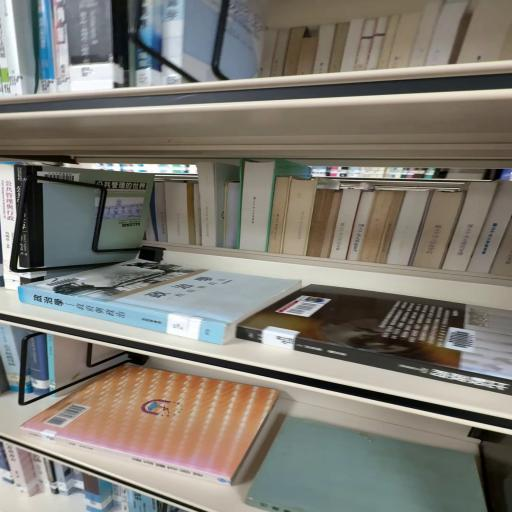flat: (22, 365, 280, 487), (237, 286, 512, 396), (19, 260, 303, 345), (247, 417, 487, 512)
